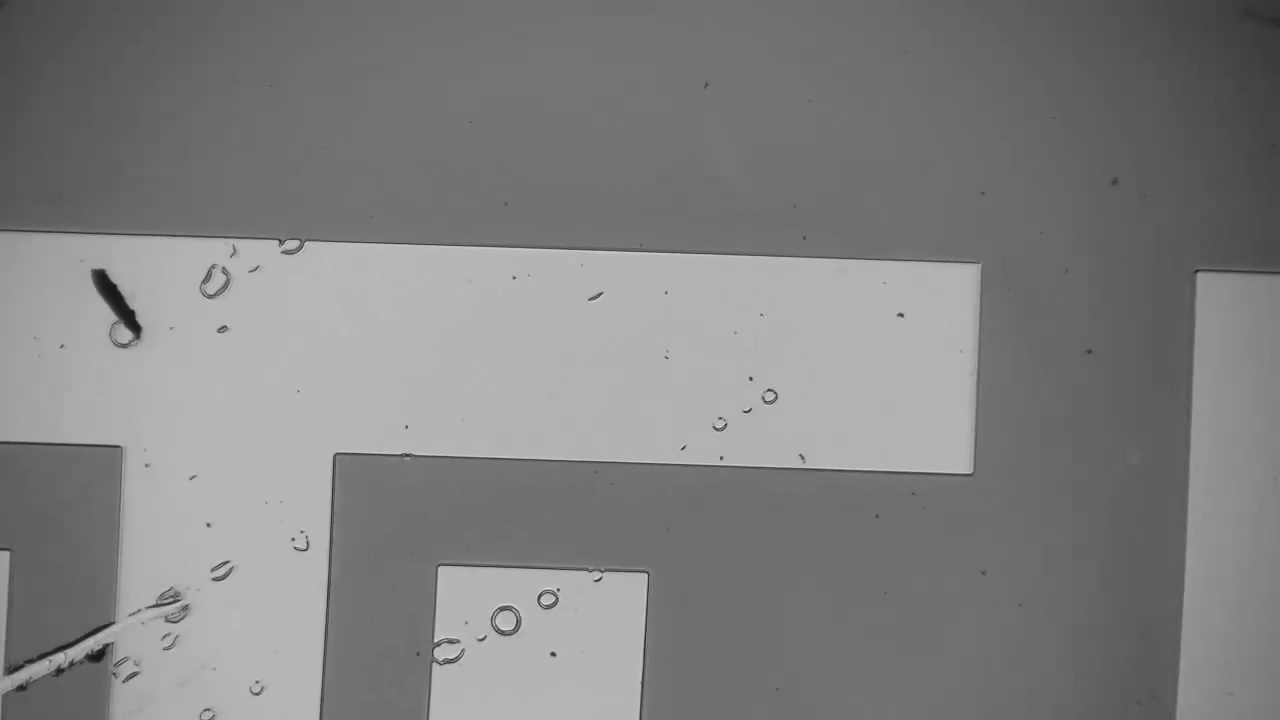Short_circuit: (0, 587, 153, 720)
